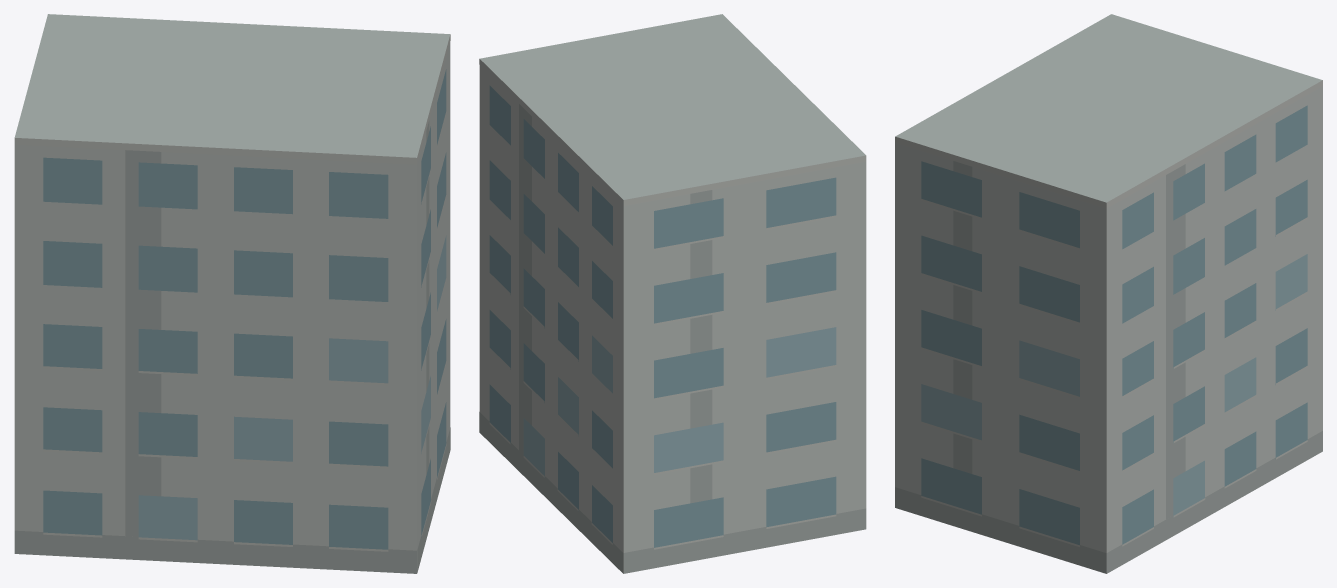
File: survey-upis-32686359.glb
3 renders of one model, left to right at view 1: azimuth 30°, elevation 25°; view 2: azimuth 150°, elevation 25°; view 3: azimuth 270°, elevation 25°, orthographic. The views are drawn at different scales.
Visible parts, largest first — view 1: survey-upis-32686359.tmp; view 2: survey-upis-32686359.tmp; view 3: survey-upis-32686359.tmp.
Part boxes in pixels (x1=…): survey-upis-32686359.tmp: x1=14, y1=14, x2=450, y2=573; survey-upis-32686359.tmp: x1=479, y1=14, x2=866, y2=573; survey-upis-32686359.tmp: x1=895, y1=14, x2=1322, y2=573.
Size of the model in its own units: 16.24 by 14.9 by 15.56.
